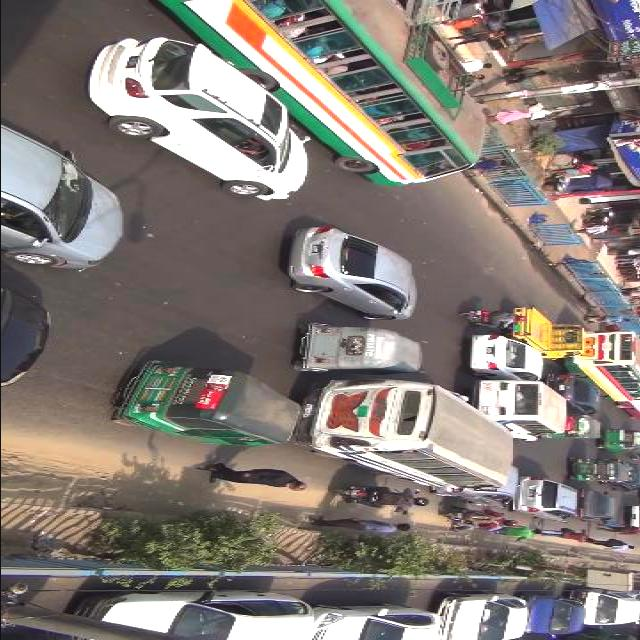bus: (165, 0, 487, 186), (308, 384, 528, 483), (469, 382, 567, 440), (569, 328, 640, 401), (619, 397, 640, 416)
car: (96, 33, 311, 203), (2, 120, 126, 272), (284, 220, 422, 320), (80, 589, 314, 639), (1, 283, 56, 390), (311, 599, 445, 639), (432, 591, 530, 639), (458, 335, 546, 380), (460, 333, 544, 376), (507, 477, 583, 520), (520, 590, 590, 636), (438, 466, 532, 499), (551, 369, 606, 411), (572, 489, 622, 523), (599, 466, 640, 489), (624, 504, 640, 526)
motorcycle: (114, 359, 308, 446), (295, 320, 432, 373), (569, 455, 627, 480), (462, 300, 500, 330), (328, 485, 388, 504), (562, 415, 608, 439), (596, 429, 640, 452), (441, 508, 489, 526)
truck: (512, 303, 592, 356), (572, 590, 640, 627)
